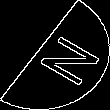N_NW: (17, 24, 93, 86)
